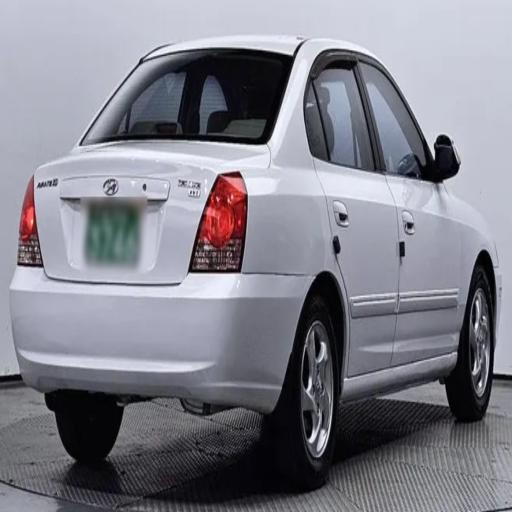normal: (12, 8, 512, 490)
